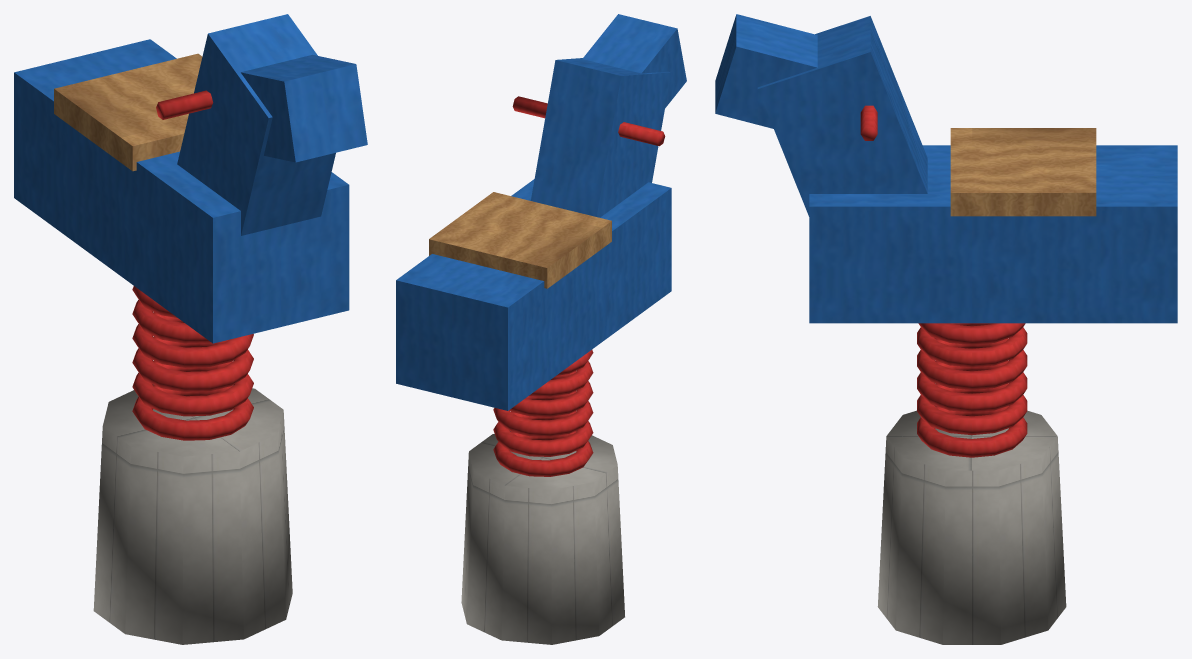
Rendered from spring_rider_horse.glb.
3 views of the same model, side by side, from view 1: azimuth 30°, elevation 25°; view 2: azimuth 150°, elevation 25°; view 3: azimuth 270°, elevation 25° (orthographic). The views are drawn at different scales.
Visible parts, largest first — view 1: RiderHo_blue, RiderHo_conc, RiderHo_spring, RiderHo_wood, RiderHo_red; view 2: RiderHo_blue, RiderHo_conc, RiderHo_wood, RiderHo_spring, RiderHo_red; view 3: RiderHo_blue, RiderHo_conc, RiderHo_spring, RiderHo_wood.
Part boxes in pixels (x1=…): RiderHo_blue: x1=14, y1=14, x2=367, y2=343; RiderHo_conc: x1=93, y1=384, x2=292, y2=644; RiderHo_spring: x1=132, y1=286, x2=253, y2=440; RiderHo_wood: x1=54, y1=53, x2=202, y2=171; RiderHo_red: x1=156, y1=90, x2=213, y2=119; RiderHo_blue: x1=396, y1=14, x2=686, y2=410; RiderHo_conc: x1=461, y1=431, x2=624, y2=644; RiderHo_wood: x1=429, y1=192, x2=611, y2=288; RiderHo_spring: x1=493, y1=349, x2=593, y2=476; RiderHo_red: x1=512, y1=96, x2=665, y2=146; RiderHo_blue: x1=715, y1=14, x2=1177, y2=323; RiderHo_conc: x1=877, y1=410, x2=1066, y2=644; RiderHo_spring: x1=917, y1=323, x2=1027, y2=457; RiderHo_wood: x1=950, y1=128, x2=1096, y2=216.
Bounding box in the file's own units: 0.44 × 1.49 × 1.08.
Materials: 4 (4 with a texture image).
